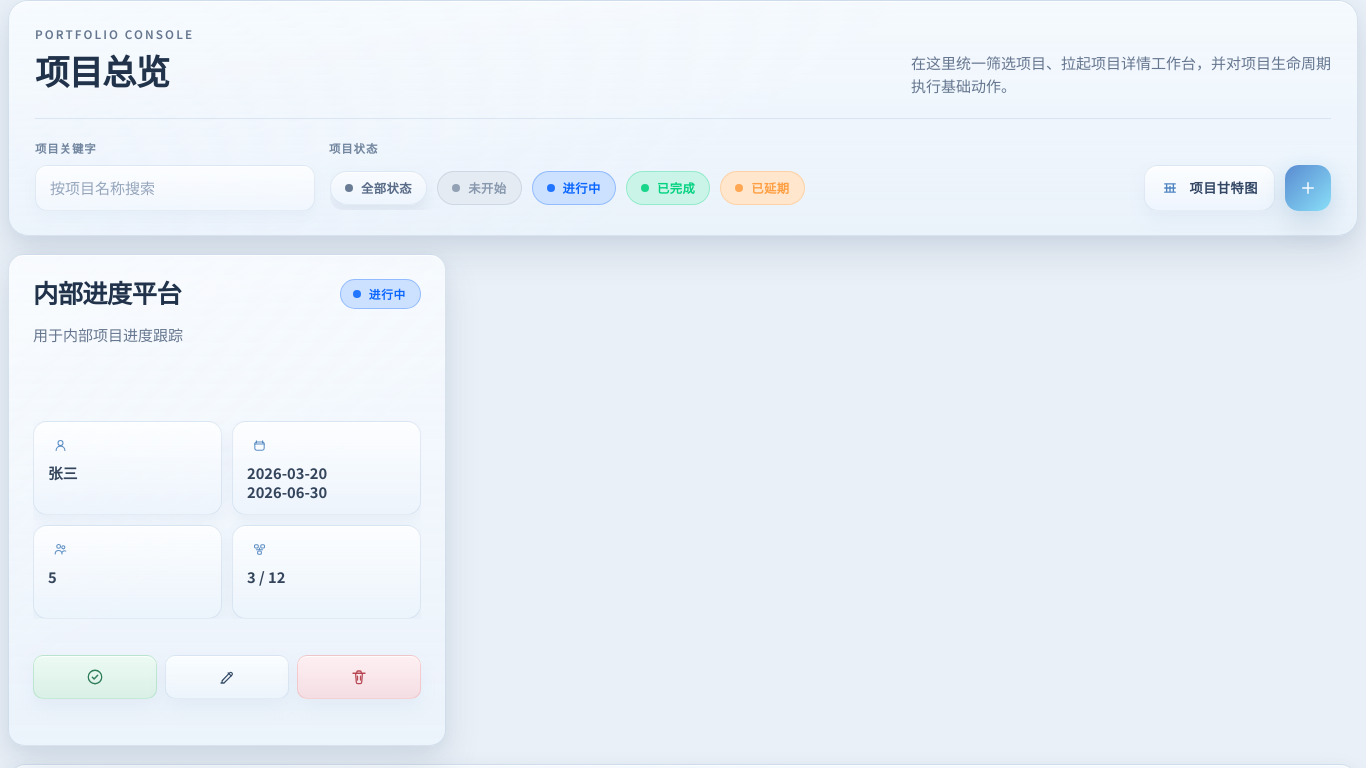
it: ProjectListView › keeps time cells only in the top axis while project rows render without a track grid layer
Expected: the heading "内部进度平台" is shown, [33, 274, 181, 310]
Click the button with aria-label "打开项目甘特图" at (1210, 188), box [1144, 165, 1275, 211]
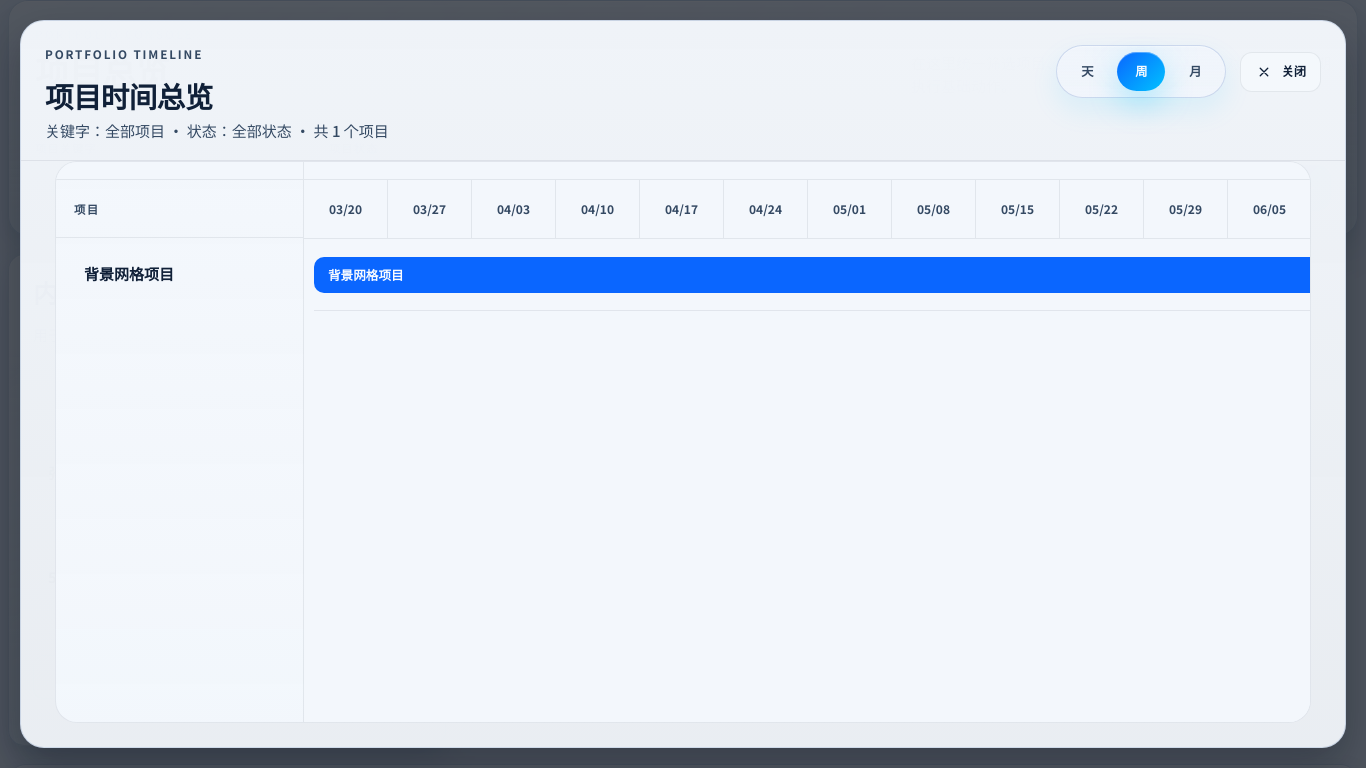
Expected: the heading "项目时间总览" is shown, [45, 76, 213, 116]
Expected: the text "03/20" is shown, [304, 180, 388, 238]
Expected: the button with aria-label "打开项目 背景网格项目 的详情页" is shown, [314, 257, 1310, 293]
